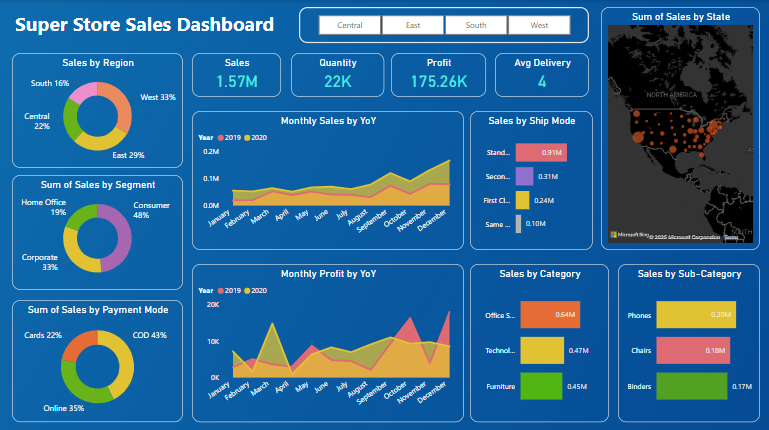

The dashboard page shown, as its layout file describes it:
{"tool":"powerbi","page":{"name":"Page 1","canvas":[1280,720],"ordinal":0},"visuals":[{"type":"clusteredBarChart","title":"Sales by Category","fields":{"Category":["Sheet1.Category"],"Y":["Sum(Sheet1.Sales)"]},"box":[783,438.9,231.1,262.6],"z":0},{"type":"clusteredBarChart","title":"Sales by Sub-Category","fields":{"Category":["Sheet1.Sub-Category"],"Y":["Sum(Sheet1.Sales)"]},"box":[1029,438.9,236.1,262.6],"z":1000},{"type":"clusteredBarChart","title":"Sales by Ship Mode","fields":{"Category":["Sheet1.Ship Mode"],"Y":["Sum(Sheet1.Sales)"]},"box":[783,184.5,204.5,231.1],"z":2000},{"type":"areaChart","title":"Monthly Sales by YoY","fields":{"Y":["Sum(Sheet1.Sales)"],"Category":["Sheet1.Order Date.Variation.Date Hierarchy.Month"],"Series":["Sheet1.Order Date.Variation.Date Hierarchy.Year"]},"box":[320.8,184.5,452.2,231.1],"z":3000},{"type":"areaChart","title":"Monthly Profit by YoY","fields":{"Category":["Sheet1.Order Date.Variation.Date Hierarchy.Month"],"Series":["Sheet1.Order Date.Variation.Date Hierarchy.Year"],"Y":["Sum(Sheet1.Profit)"]},"box":[320.8,438.9,452.2,262.6],"z":4000},{"type":"map","fields":{"Category":["Sheet1.State"],"Size":["Sum(Sheet1.Sales)"]},"box":[1000.7,11.6,264.3,403.9],"z":5000},{"type":"donutChart","fields":{"Y":["Sum(Sheet1.Sales)"],"Category":["Sheet1.Segment"]},"box":[21.6,290.9,284.3,191.2],"z":6000},{"type":"donutChart","fields":{"Y":["Sum(Sheet1.Sales)"],"Category":["Sheet1.Payment Mode"]},"box":[21.6,498.7,284.3,202.8],"z":7000},{"type":"slicer","fields":{"Values":["Sheet1.Region"]},"box":[498.7,11.6,482.1,59.8],"z":8000},{"type":"textbox","box":[21.6,11.6,566.9,76.5],"z":9000},{"type":"card","title":"Sales","fields":{"Values":["Sum(Sheet1.Sales)"]},"box":[320.8,88.1,147.9,73.1],"z":10000},{"type":"card","title":"Profit","fields":{"Values":["Sum(Sheet1.Profit)"]},"box":[651.6,88.1,157.9,73.1],"z":11000},{"type":"card","title":"Quantity","fields":{"Values":["Sum(Sheet1.Quantity)"]},"box":[485.4,88.1,154.6,73.1],"z":12000},{"type":"card","title":"Avg Delivery","fields":{"Values":["Avg(Sheet1.AgDelivery)"]},"box":[824.5,88.1,156.3,73.1],"z":13000},{"type":"donutChart","title":"Sales by Region","fields":{"Y":["Sum(Sheet1.Sales)"],"Category":["Sheet1.Region"]},"box":[21.6,88.1,284.3,191.2],"z":14000}]}

Visuals, with their boxes in screenshot pixels (x1, y1, x2, y2), scaled from the page's 1280x720 canvas onto the 769x430 screenshot:
"Sales by Category" clusteredBarChart: l=470, t=262, r=609, b=419
"Sales by Sub-Category" clusteredBarChart: l=618, t=262, r=760, b=419
"Sales by Ship Mode" clusteredBarChart: l=470, t=110, r=593, b=248
"Monthly Sales by YoY" areaChart: l=193, t=110, r=464, b=248
"Monthly Profit by YoY" areaChart: l=193, t=262, r=464, b=419
map - Sheet1.State x Sum(Sheet1.Sales): l=601, t=7, r=760, b=248
donutChart - Sum(Sheet1.Sales) x Sheet1.Segment: l=13, t=174, r=184, b=288
donutChart - Sum(Sheet1.Sales) x Sheet1.Payment Mode: l=13, t=298, r=184, b=419
slicer - Sheet1.Region: l=300, t=7, r=589, b=43
textbox: l=13, t=7, r=354, b=53
"Sales" card: l=193, t=53, r=282, b=96
"Profit" card: l=391, t=53, r=486, b=96
"Quantity" card: l=292, t=53, r=384, b=96
"Avg Delivery" card: l=495, t=53, r=589, b=96
"Sales by Region" donutChart: l=13, t=53, r=184, b=167
